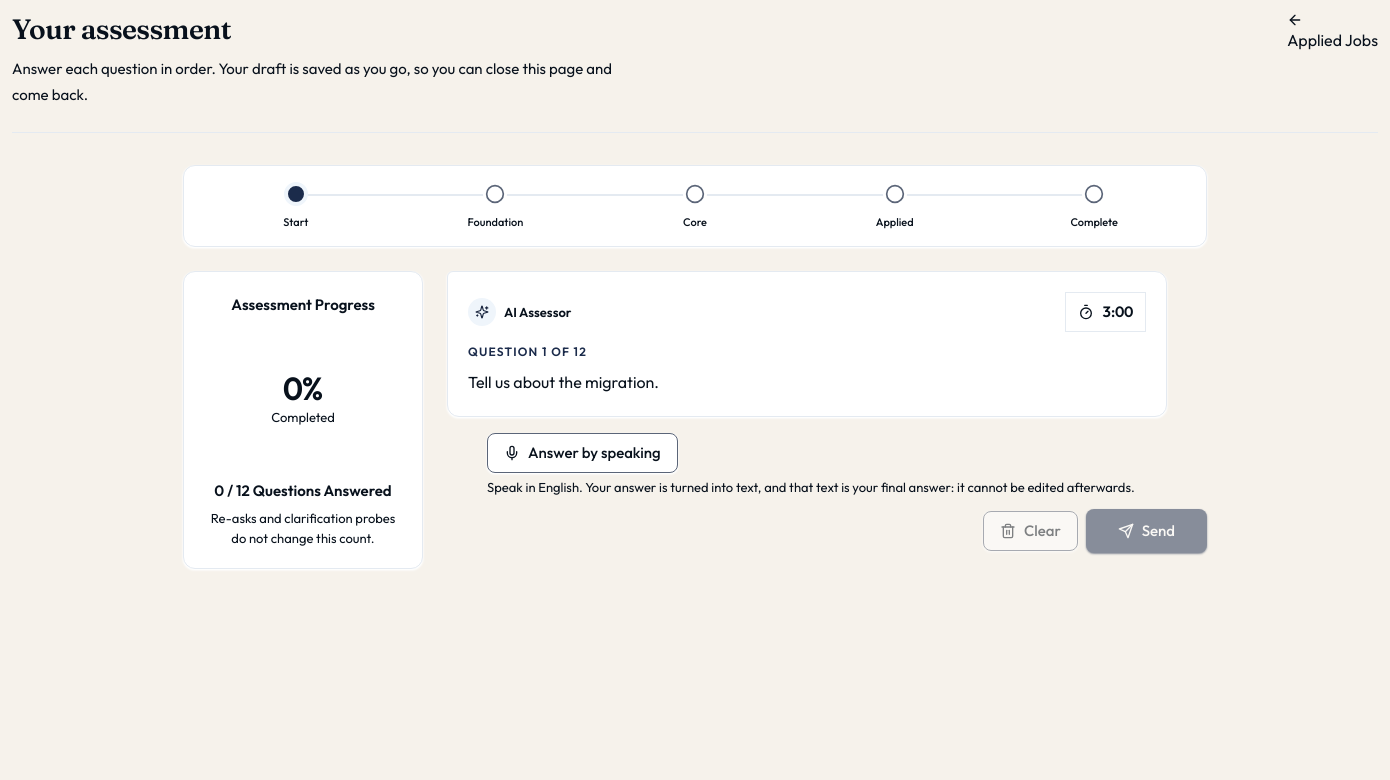
it: spoken answers › offer typing at once when the microphone cannot be opened, creating no capture
This screenshot has width=1390, height=780.
Click the button "Answer by speaking": point(582, 453) left=487, top=433, right=678, bottom=473
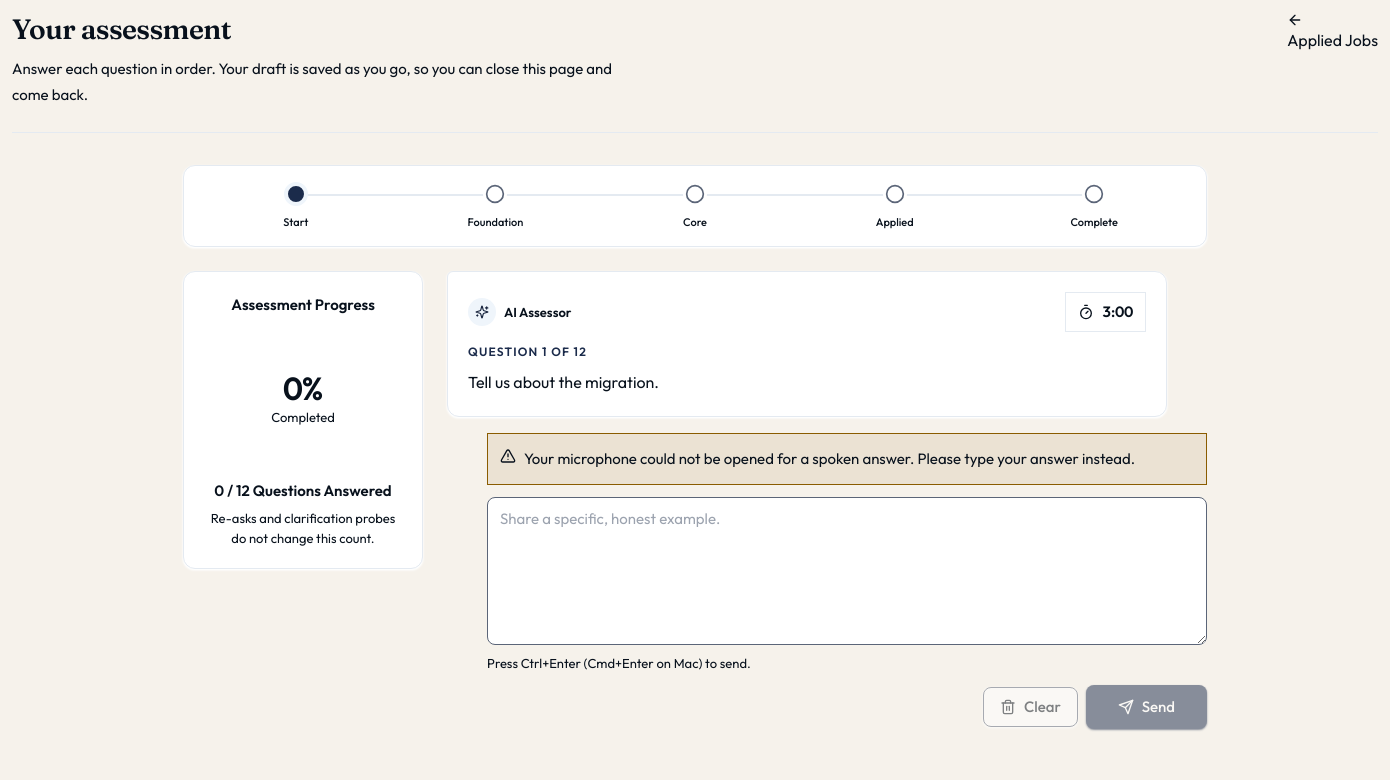
expect the message with test id "voice-unavailable" is shown: met, box left=487, top=433, right=1207, bottom=485
expect the text box named "Your answer" is shown: met, box left=487, top=497, right=1207, bottom=645
